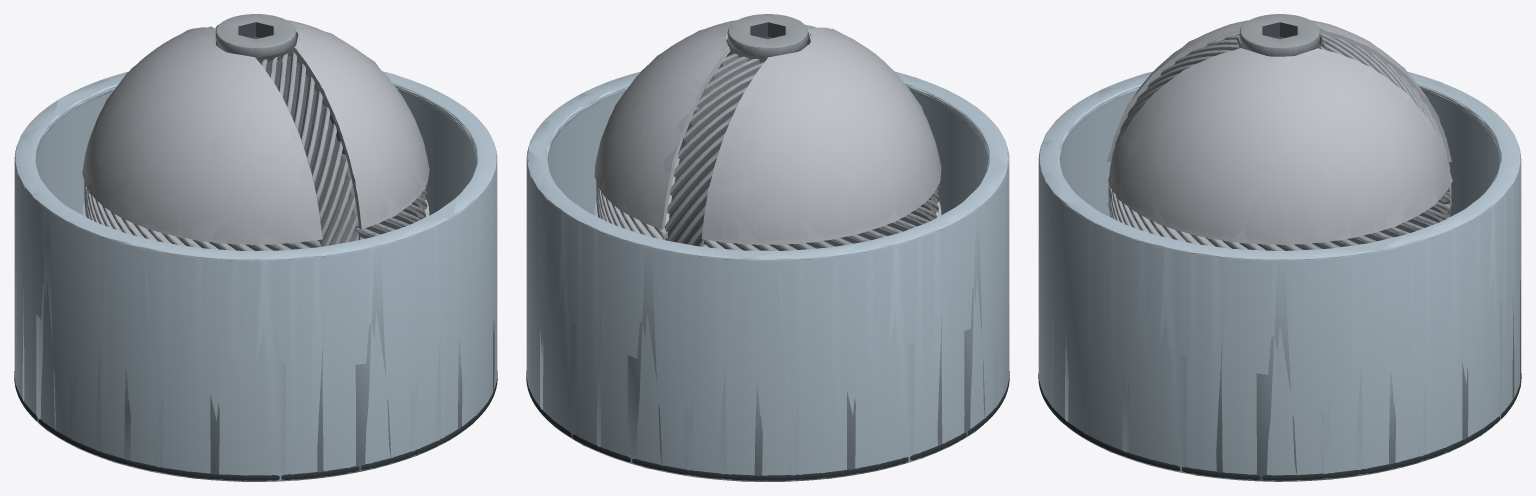
File: torreta_observacion.glb
3 views of the same model, side by side, from view 1: azimuth 30°, elevation 25°; view 2: azimuth 150°, elevation 25°; view 3: azimuth 270°, elevation 25° (orthographic).
Visible parts, largest first — view 1: L0_TorretaObservacion_malla, L1_TorretaObservacion_malla, L0_munon_malla, L2_TorretaObservacion_malla, L1_munon_malla, L2_munon_malla; view 2: L0_TorretaObservacion_malla, L1_TorretaObservacion_malla, L0_munon_malla, L2_TorretaObservacion_malla, L1_munon_malla, L2_munon_malla; view 3: L0_TorretaObservacion_malla, L1_TorretaObservacion_malla, L0_munon_malla, L2_TorretaObservacion_malla, L1_munon_malla, L2_munon_malla.
Part boxes in pixels (x1,y1,x2,y2): L0_TorretaObservacion_malla: (14,72,497,481); L1_TorretaObservacion_malla: (14,71,497,481); L0_munon_malla: (82,14,429,250); L2_TorretaObservacion_malla: (14,71,497,481); L1_munon_malla: (82,14,429,250); L2_munon_malla: (83,14,426,248); L0_TorretaObservacion_malla: (526,71,1009,481); L1_TorretaObservacion_malla: (526,71,1009,481); L0_munon_malla: (594,14,941,250); L2_TorretaObservacion_malla: (526,77,1009,481); L1_munon_malla: (594,14,941,250); L2_munon_malla: (594,14,939,249); L0_TorretaObservacion_malla: (1038,71,1521,481); L1_TorretaObservacion_malla: (1038,71,1521,481); L0_munon_malla: (1108,14,1451,250); L2_TorretaObservacion_malla: (1038,71,1521,481); L1_munon_malla: (1107,14,1452,250); L2_munon_malla: (1107,14,1452,249).
Size of the model in its own units: 1.38 by 1.11 by 1.38.
